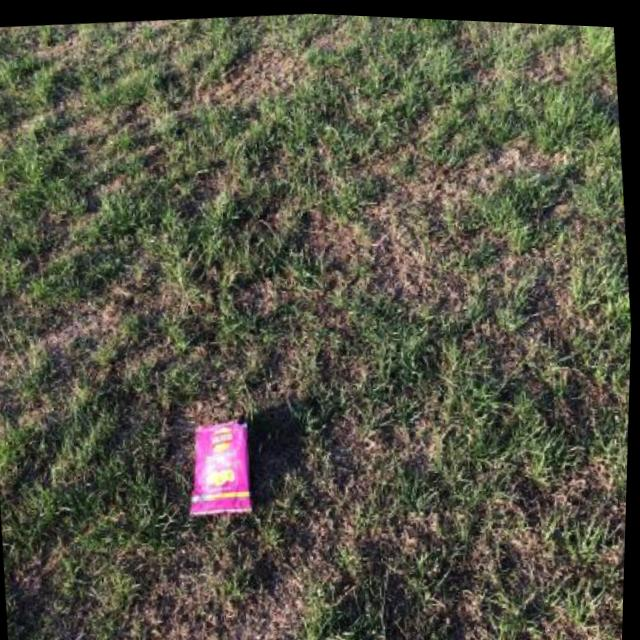plastic: (180, 418, 255, 519)
